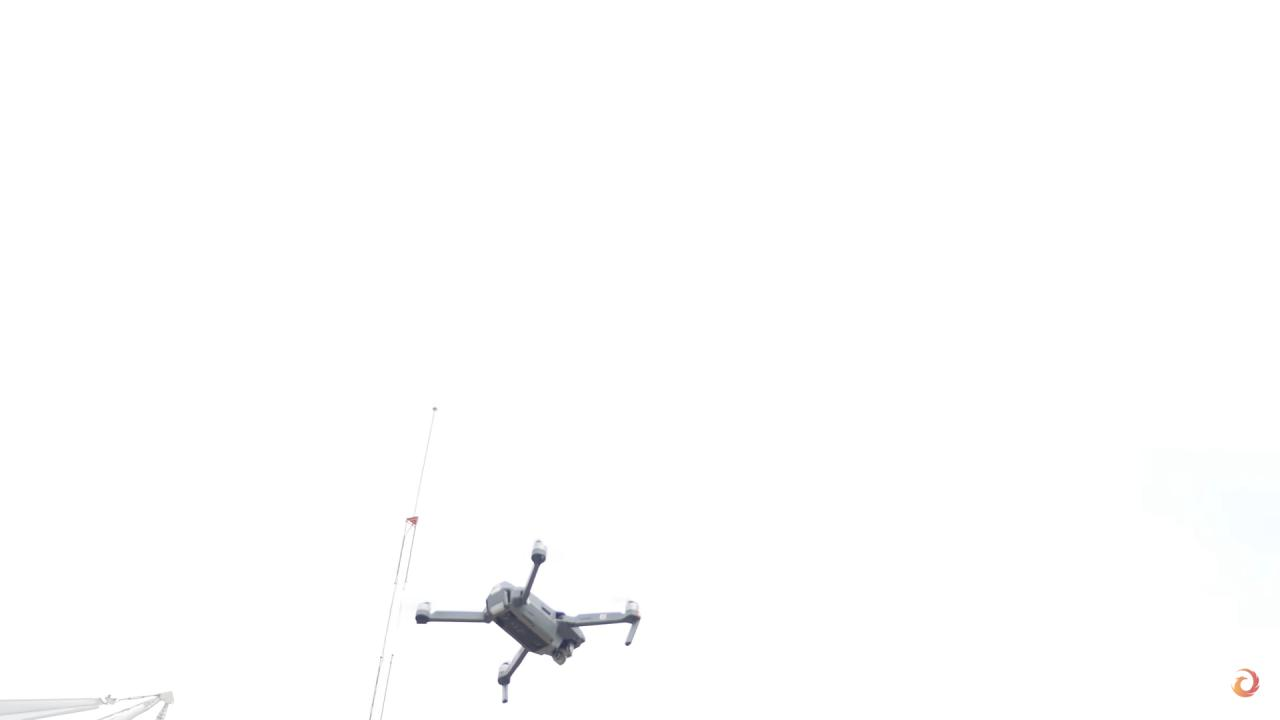Drone: (407, 531, 652, 710)
